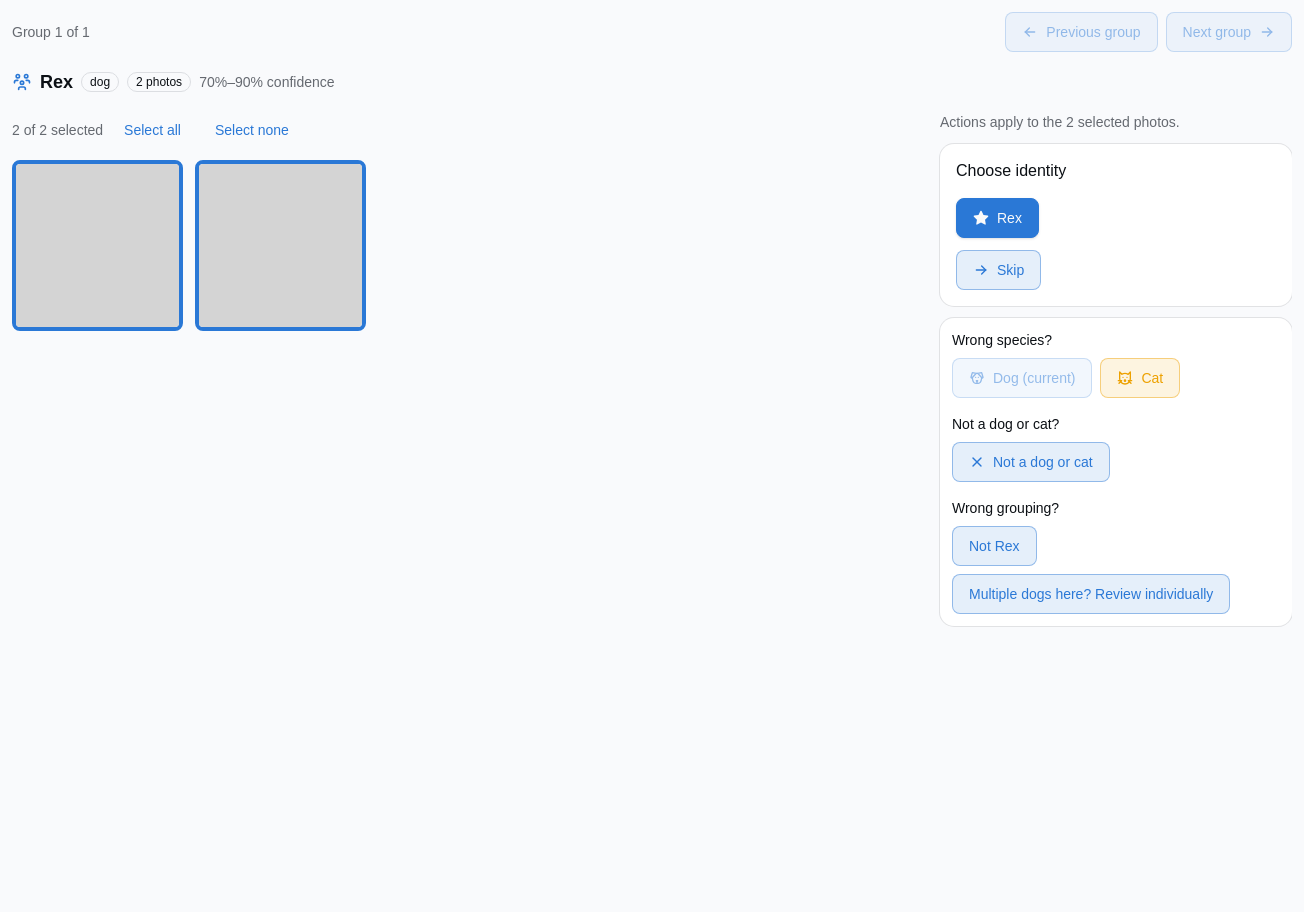
Test: ReviewGroupedPanel › approves the whole (fully selected) group and refreshes stats
Click the button with aria-label "Rex (predicted)". click: (997, 218)
box: [956,198,1039,238]
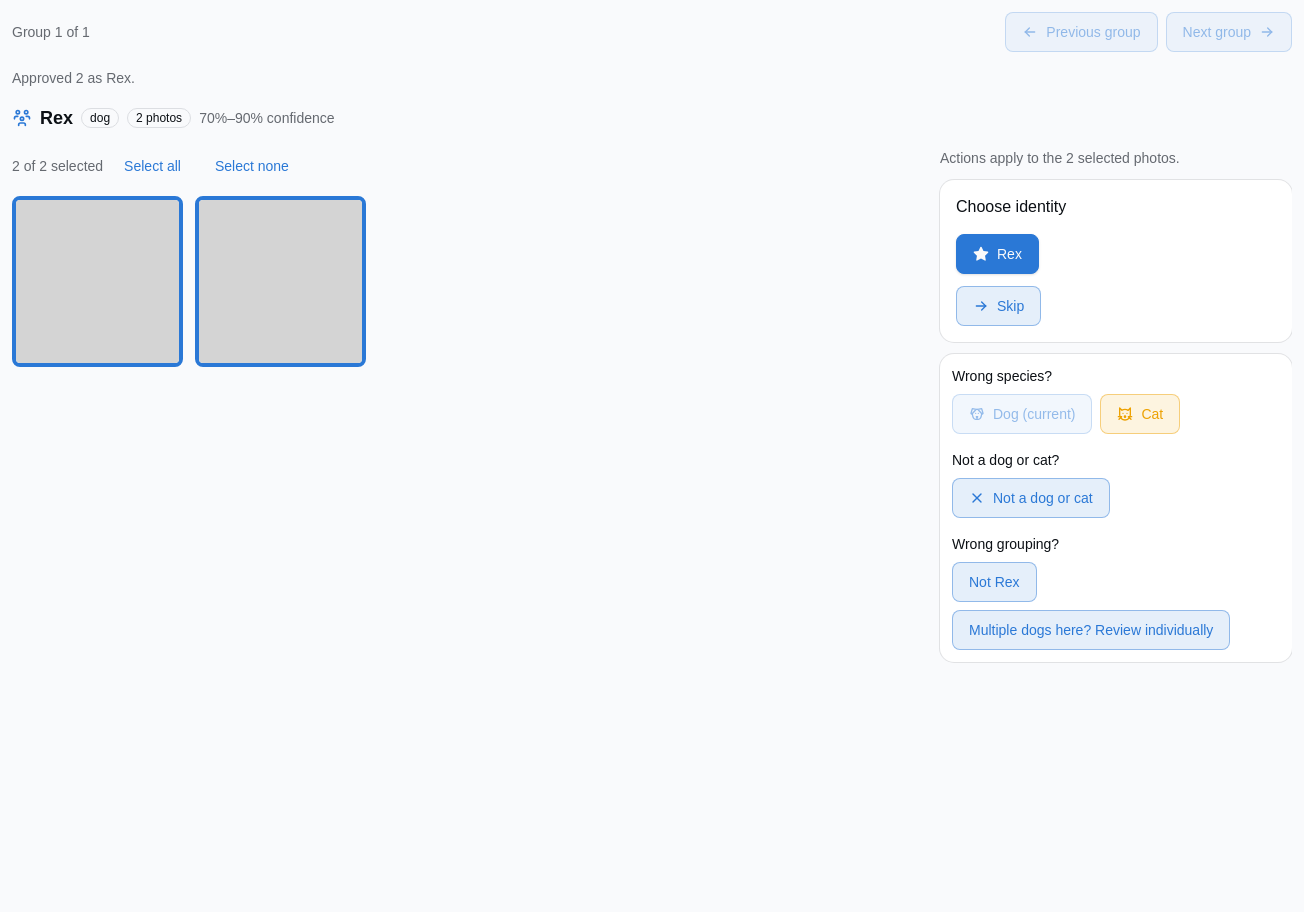
Now the text "Approved 2 as Rex." is shown, box [12,70,135,86]
